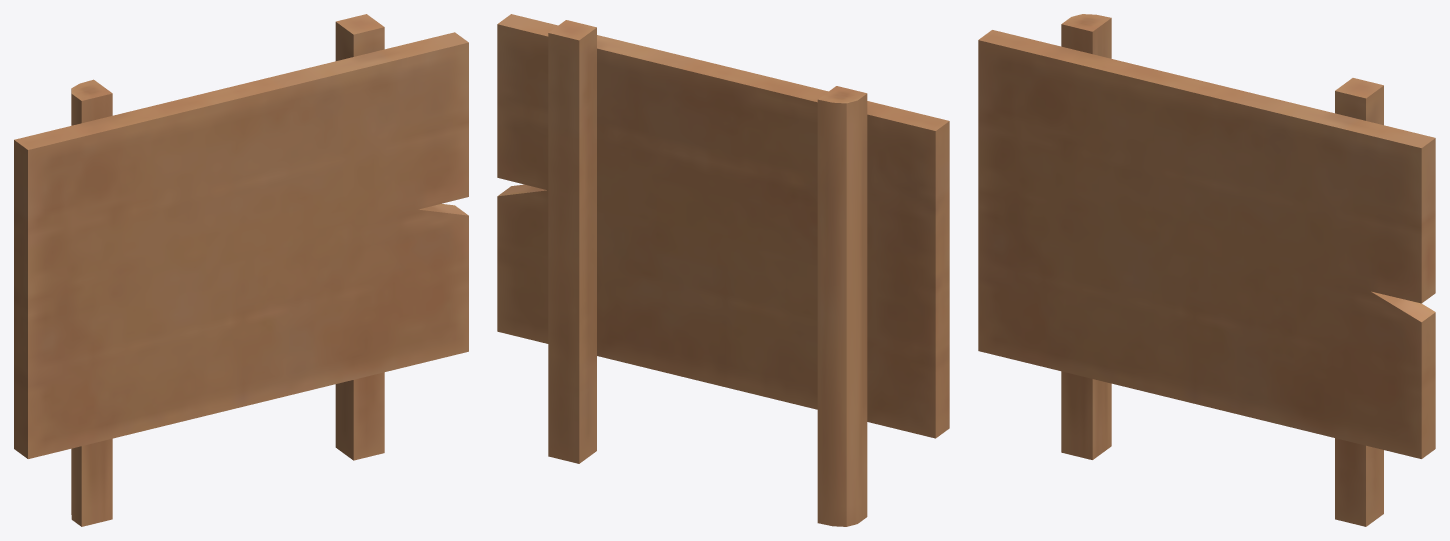
Rendered from SM_Roadsign.fbx.
3 renders of one model, left to right at view 1: azimuth 30°, elevation 25°; view 2: azimuth 150°, elevation 25°; view 3: azimuth 330°, elevation 25°, orthographic.
Parts seen in each view (by area): view 1: Wood; view 2: Wood; view 3: Wood.
Boxes of the visible parts, x1,y1,x2,y2 form: Wood: (14, 14, 468, 526); Wood: (497, 14, 949, 526); Wood: (978, 14, 1435, 526).
Bounding box in the file's own units: 2.06 × 1.9 × 0.2705.
1 material, 1 textured.
